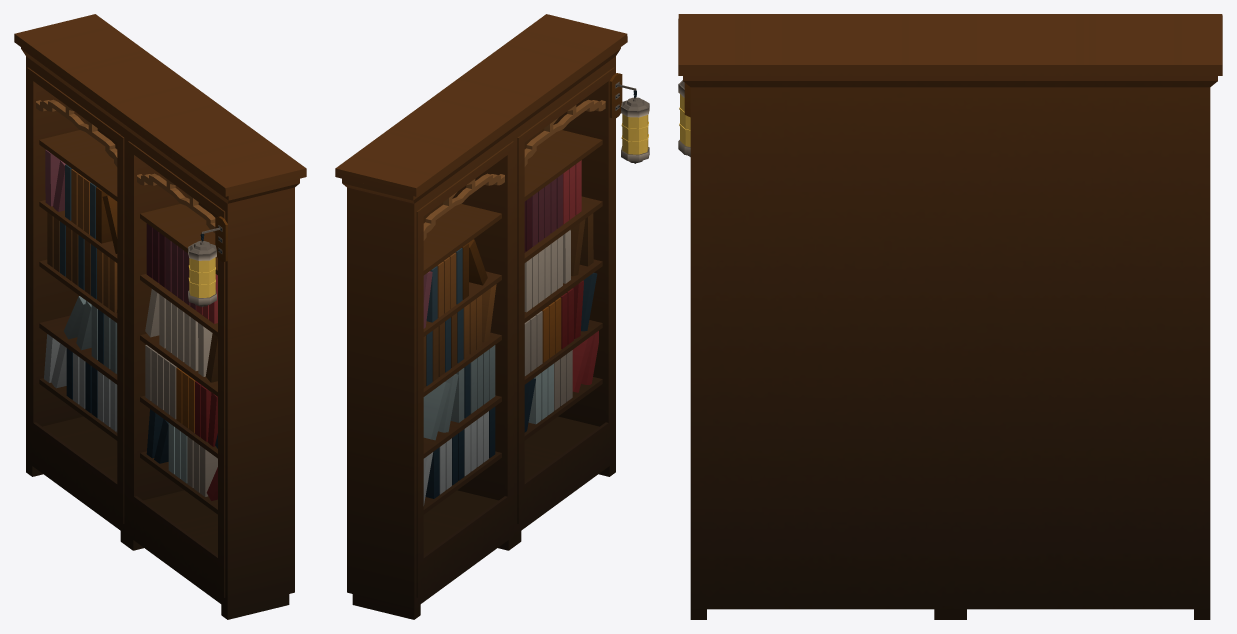
Rendered from BoekenKast1lamp.fbx.
3 views of the same model, side by side, from view 1: azimuth 30°, elevation 25°; view 2: azimuth 150°, elevation 25°; view 3: azimuth 270°, elevation 25° (orthographic). The views are drawn at different scales.
Parts seen in each view (by area): view 1: BoekenKastMesh, Hangendelamp, Hangendelampglass; view 2: BoekenKastMesh, Hangendelamp, Hangendelampglass; view 3: BoekenKastMesh.
Part boxes in pixels (bbox=[...]): BoekenKastMesh: bbox=[14, 14, 306, 619]; Hangendelamp: bbox=[188, 216, 227, 307]; Hangendelampglass: bbox=[188, 257, 215, 297]; BoekenKastMesh: bbox=[335, 14, 627, 619]; Hangendelamp: bbox=[609, 73, 649, 163]; Hangendelampglass: bbox=[621, 114, 648, 154]; BoekenKastMesh: bbox=[678, 14, 1222, 619].
Size of the model in its own units: 74.65 by 284 by 249.
